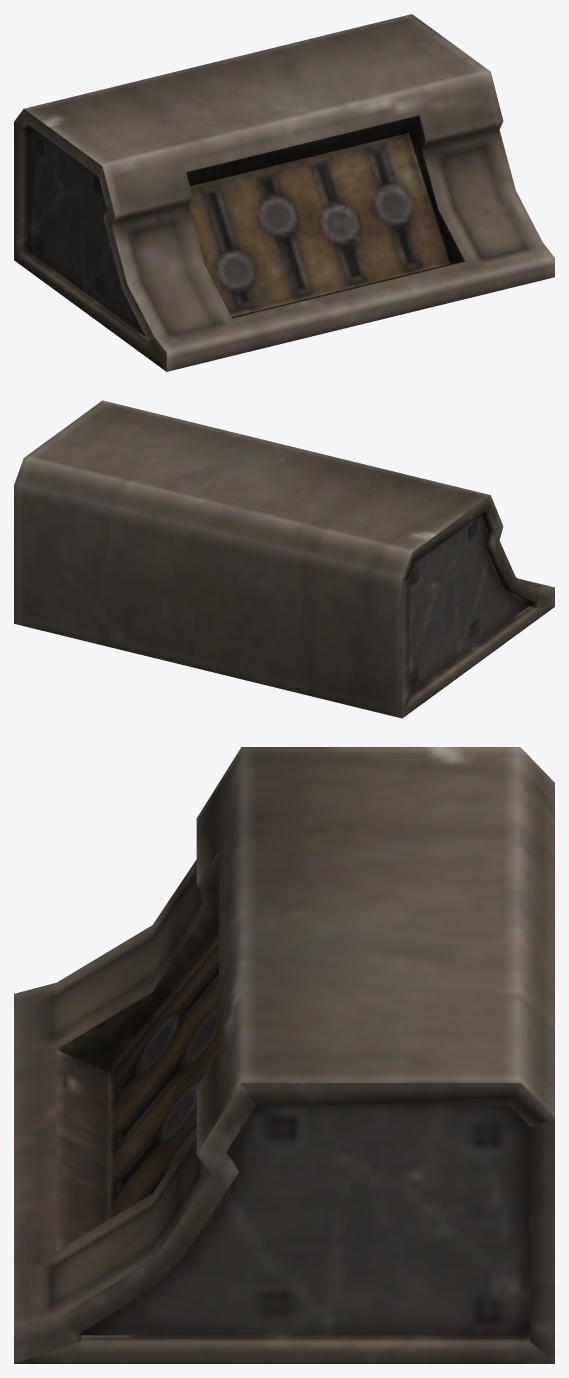
File: computer_parts_sliders_small.dae
3 renders of one model, top to bottom at view 1: azimuth 30°, elevation 25°; view 2: azimuth 150°, elevation 25°; view 3: azimuth 270°, elevation 25°, orthographic. The views are drawn at different scales.
Parts seen in each view (by area): view 1: computer_parts_sliders; view 2: computer_parts_sliders; view 3: computer_parts_sliders.
Boxes of the visible parts, box(x1,y1,x2,y2) form: computer_parts_sliders: box(14, 14, 554, 371); computer_parts_sliders: box(14, 400, 554, 718); computer_parts_sliders: box(14, 747, 554, 1363).
Bounding box in the file's own units: 0.3363 × 0.1313 × 0.229.
